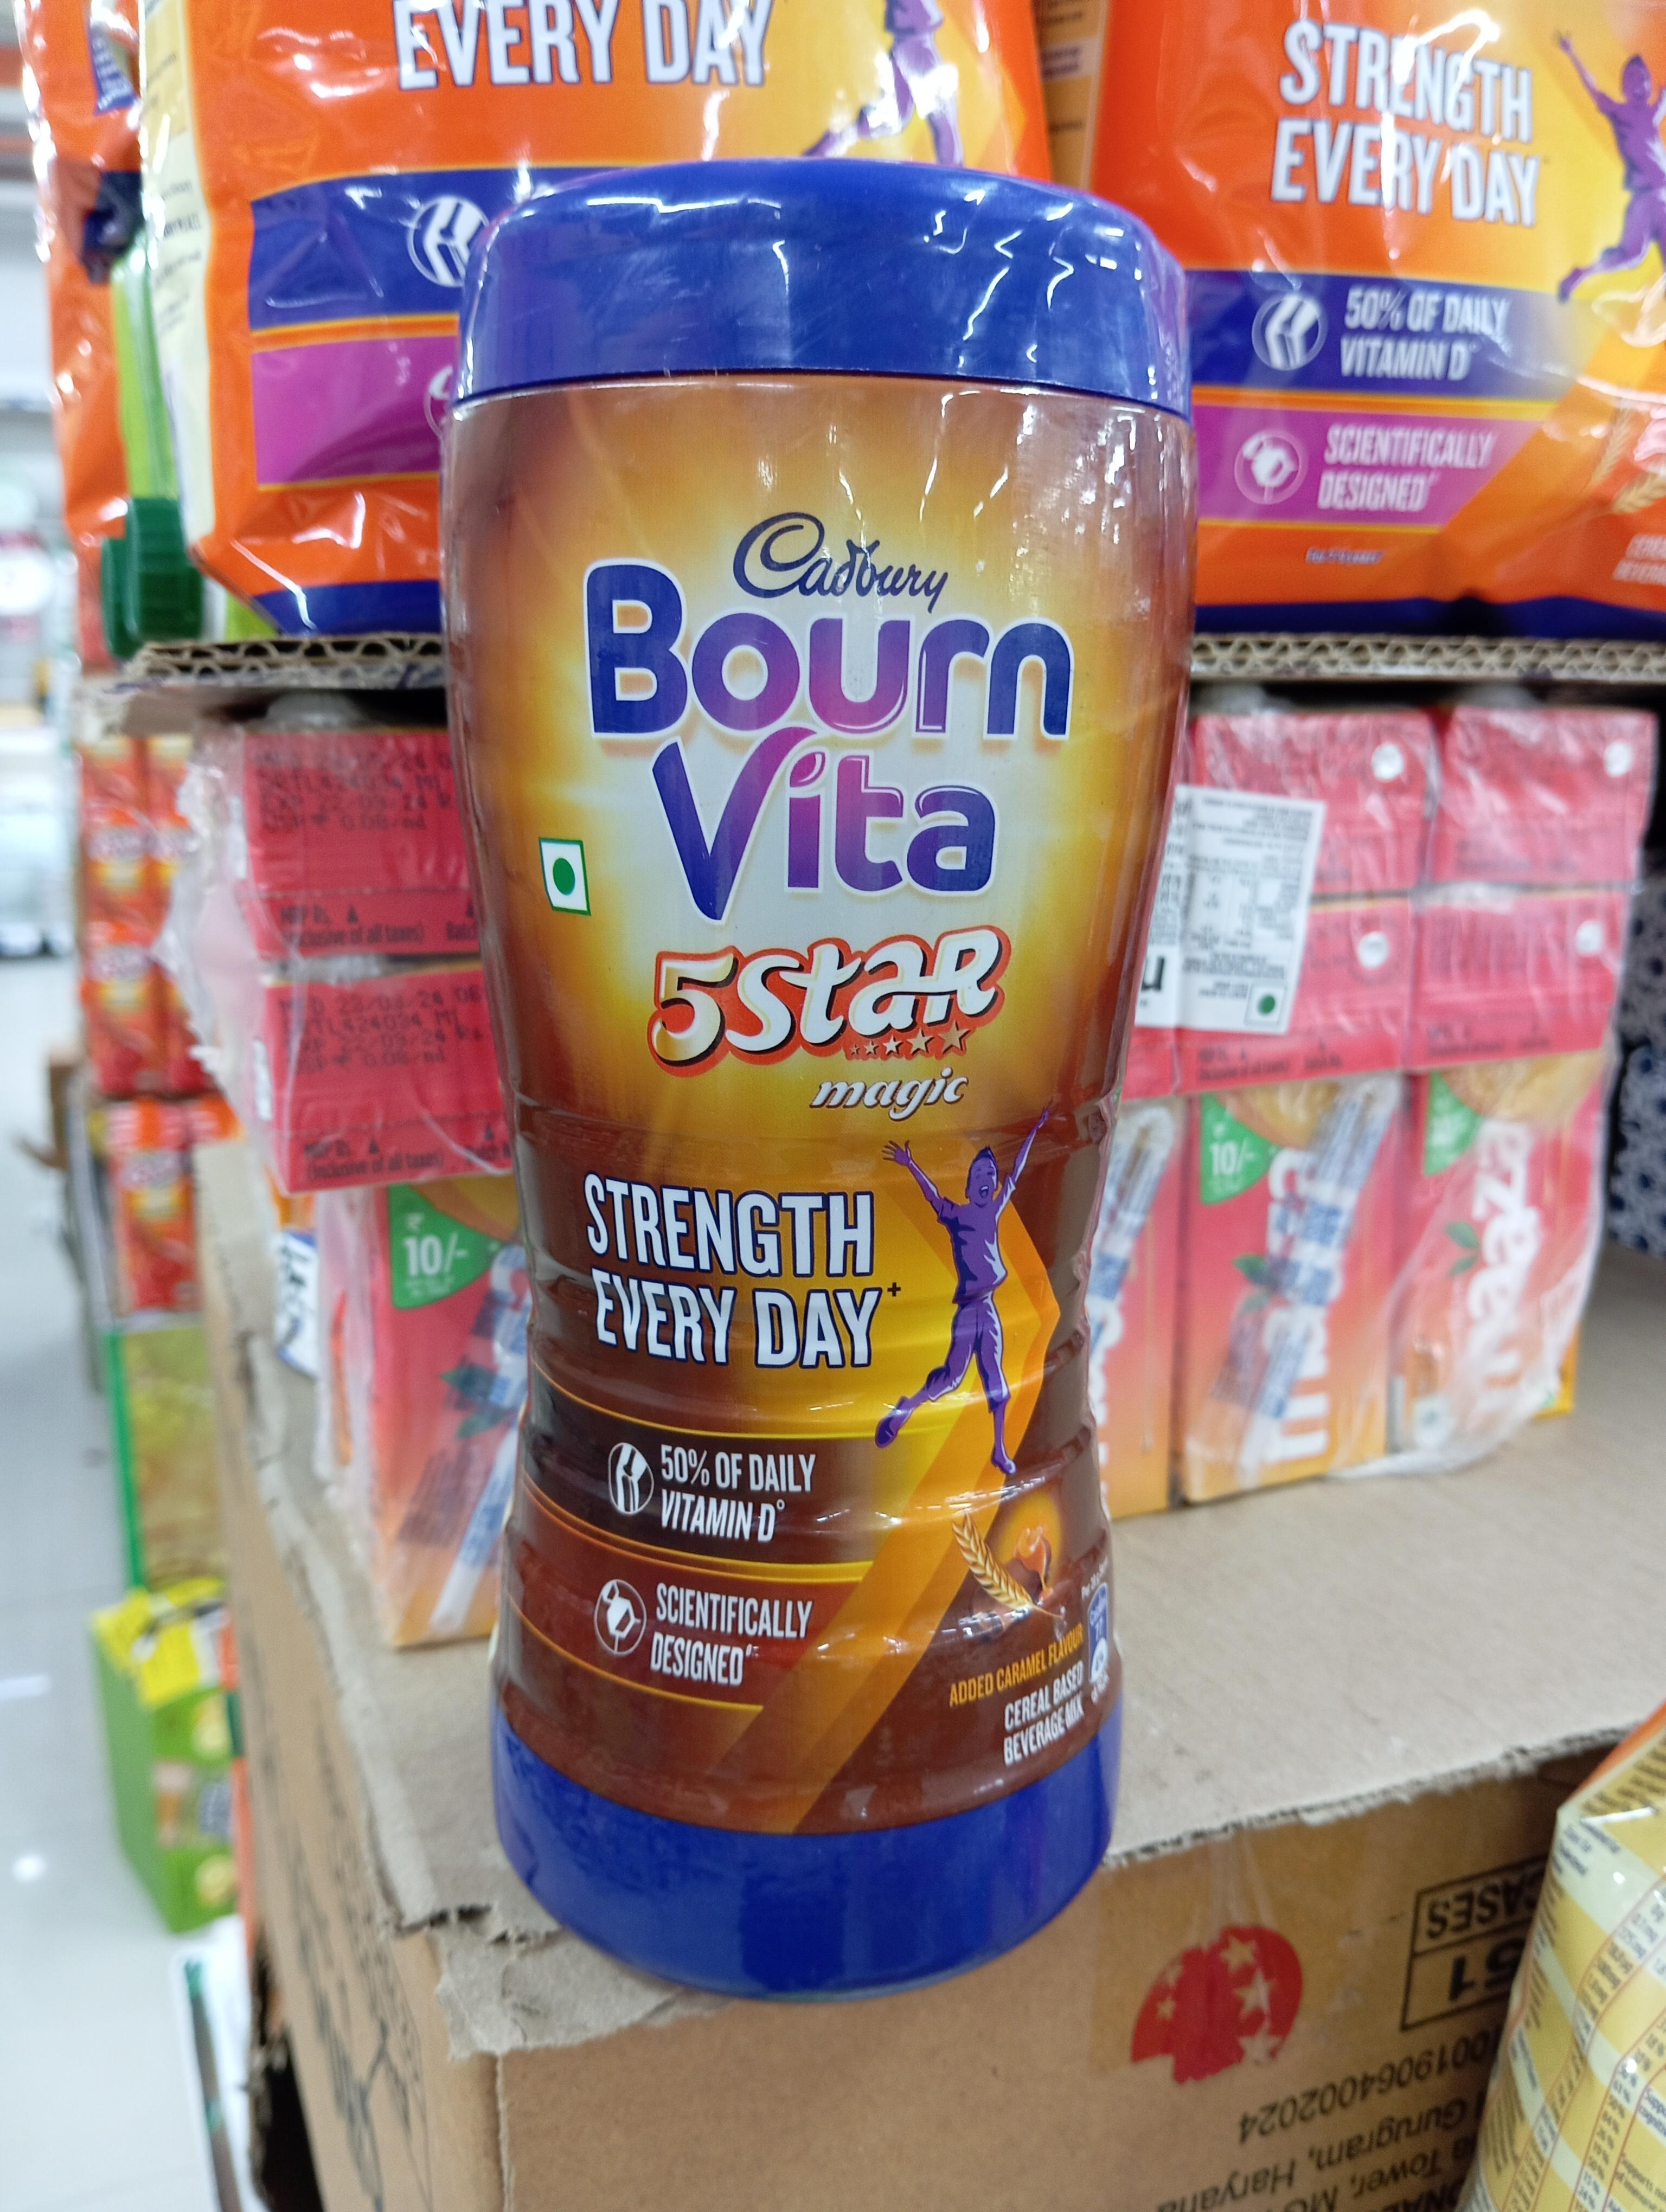BOURN_VITA_FIVE_STAR_MAGIC_500_G_JAR: (429, 157, 1199, 1986)
